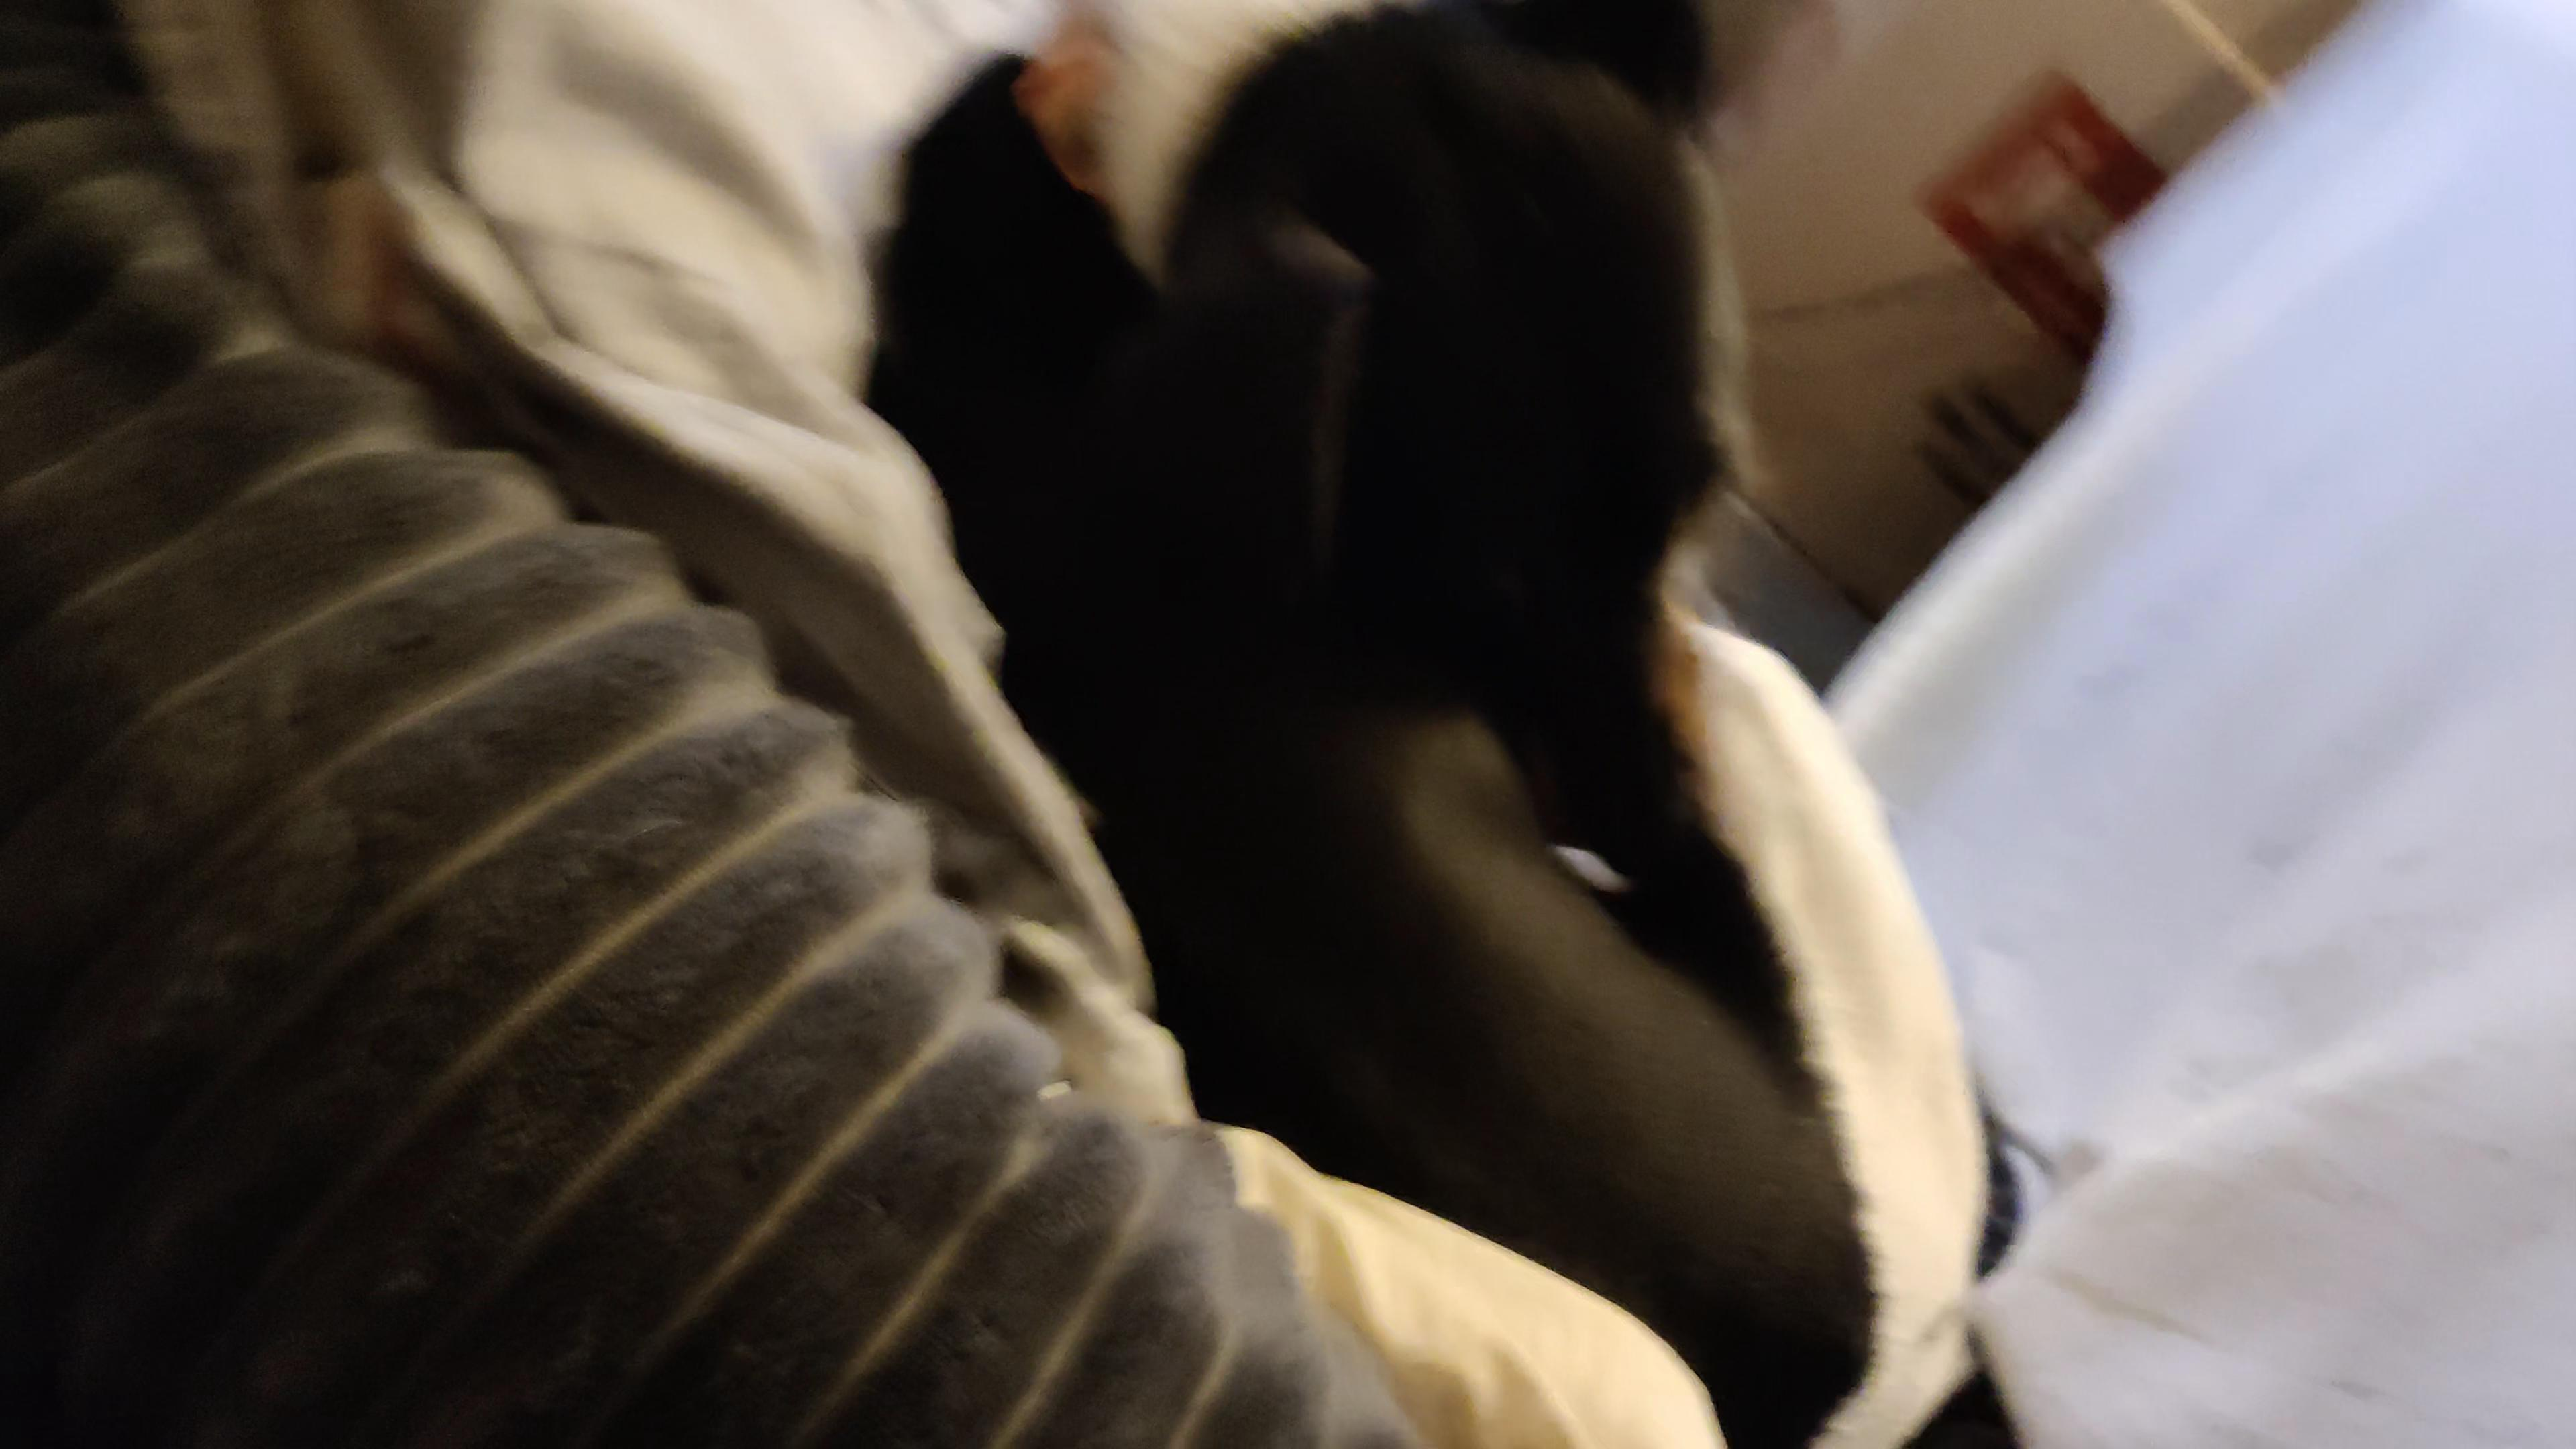Dog: (784, 0, 2033, 1449)
